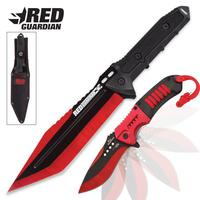knife: (5, 5, 192, 198), (7, 32, 37, 131)
